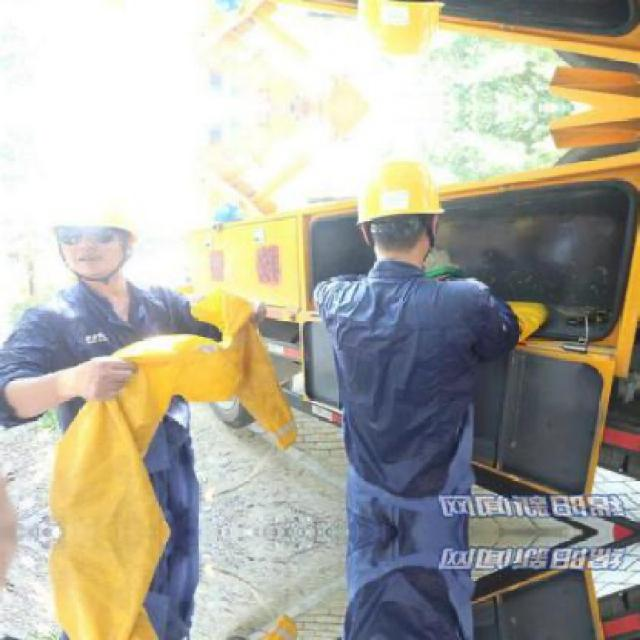helmet: (350, 146, 456, 272), (51, 182, 149, 290), (349, 0, 457, 68), (49, 0, 149, 32)
